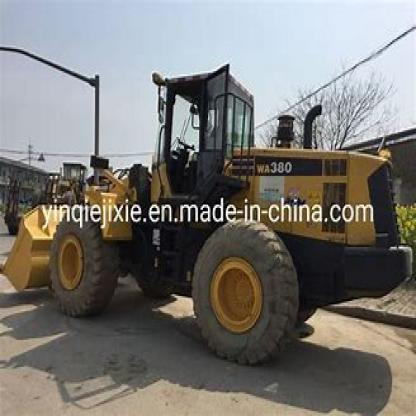bull_dozer/loader/grader: (4, 63, 415, 367)
